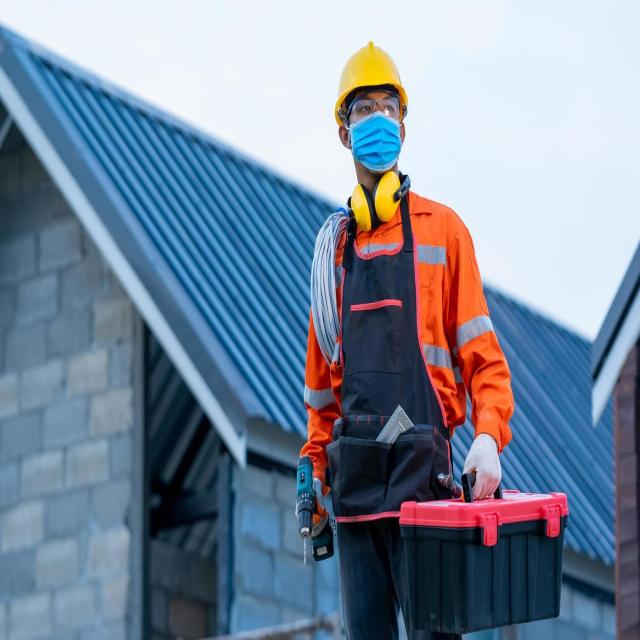gloves: (458, 425, 504, 500), (295, 473, 329, 527)
helmet: (335, 40, 409, 123)
vest: (319, 181, 471, 445)
